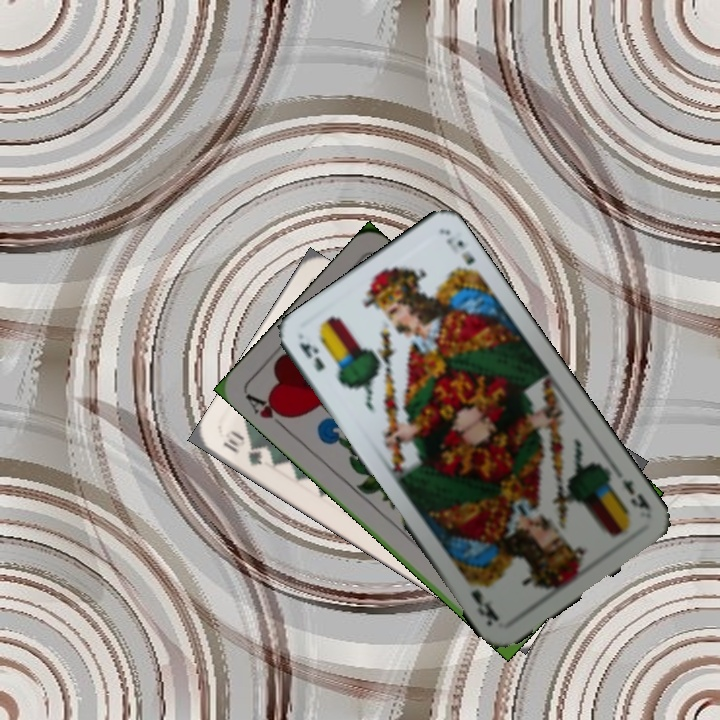EK: (617, 474, 655, 516), (295, 338, 328, 374)
G10: (218, 427, 265, 469)
HA: (241, 390, 294, 434)
